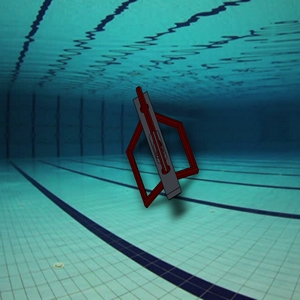submarine: (100, 81, 211, 216)
